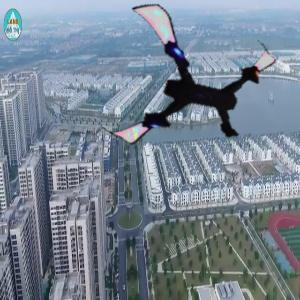drone: (103, 12, 263, 172)
